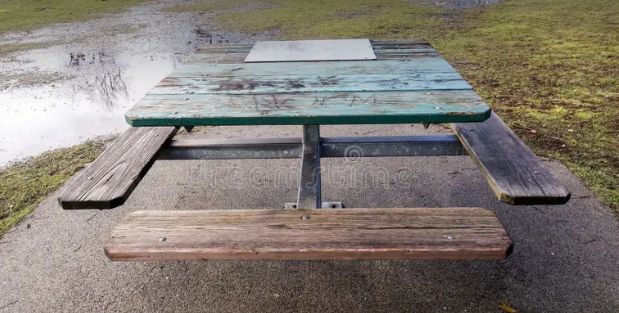obstacle: (44, 37, 571, 286)
